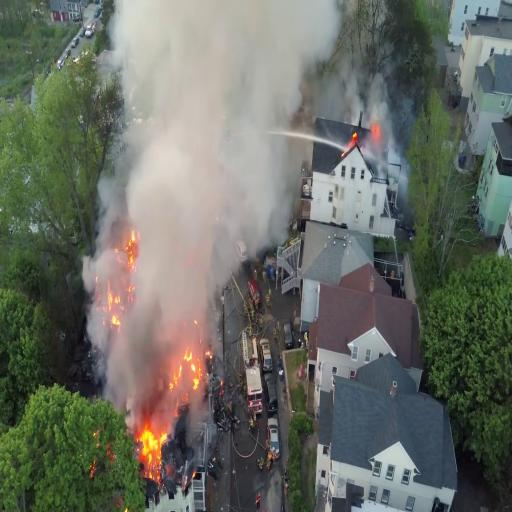fire: (138, 415, 162, 483), (170, 338, 200, 391), (116, 233, 146, 277)
smoke: (164, 19, 253, 210)
